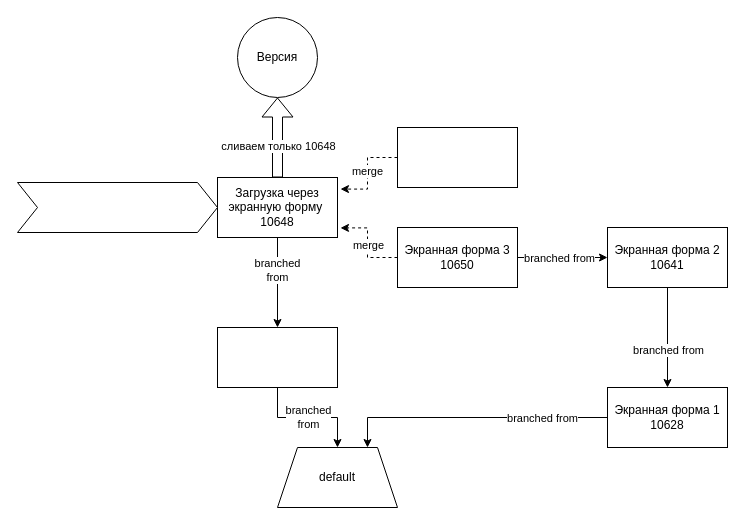
The diagram is 745 pixels wide and 525 high, and some of its shapes have lost their labels. The box of each missing label's shape, as (x1, y1, x2, y2) in pixels:
Правки с токенами (исправим код 10620 в ветке 10648): (16, 182, 218, 232)
Сервисы 10620: (216, 326, 338, 388)
Токены 10626: (396, 126, 518, 188)
